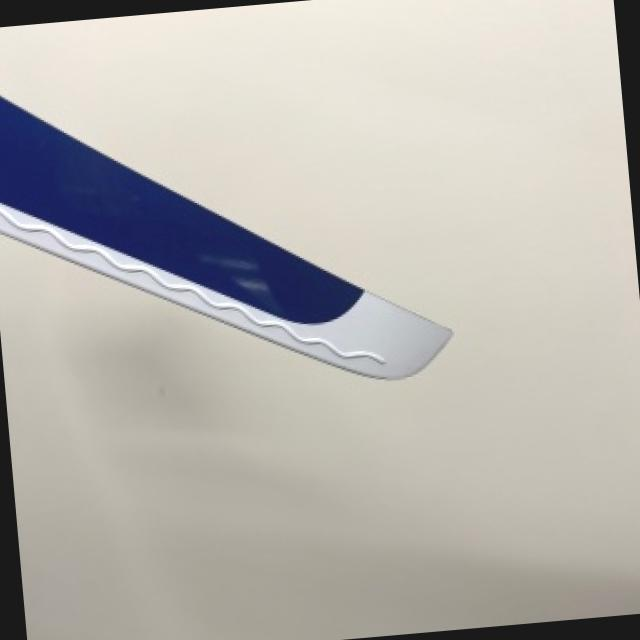healthy: (0, 94, 448, 377)
